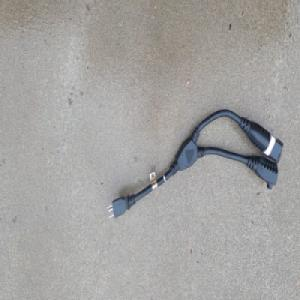Wire: (106, 106, 284, 220)
